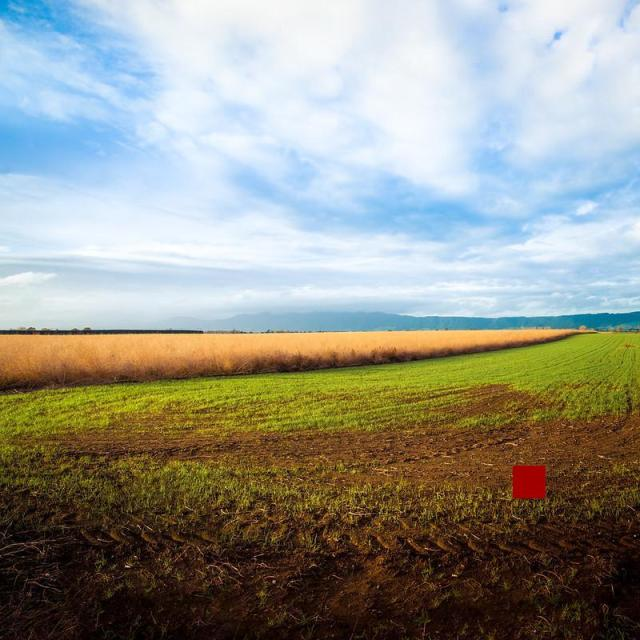RedSquare: (507, 462, 554, 504)
